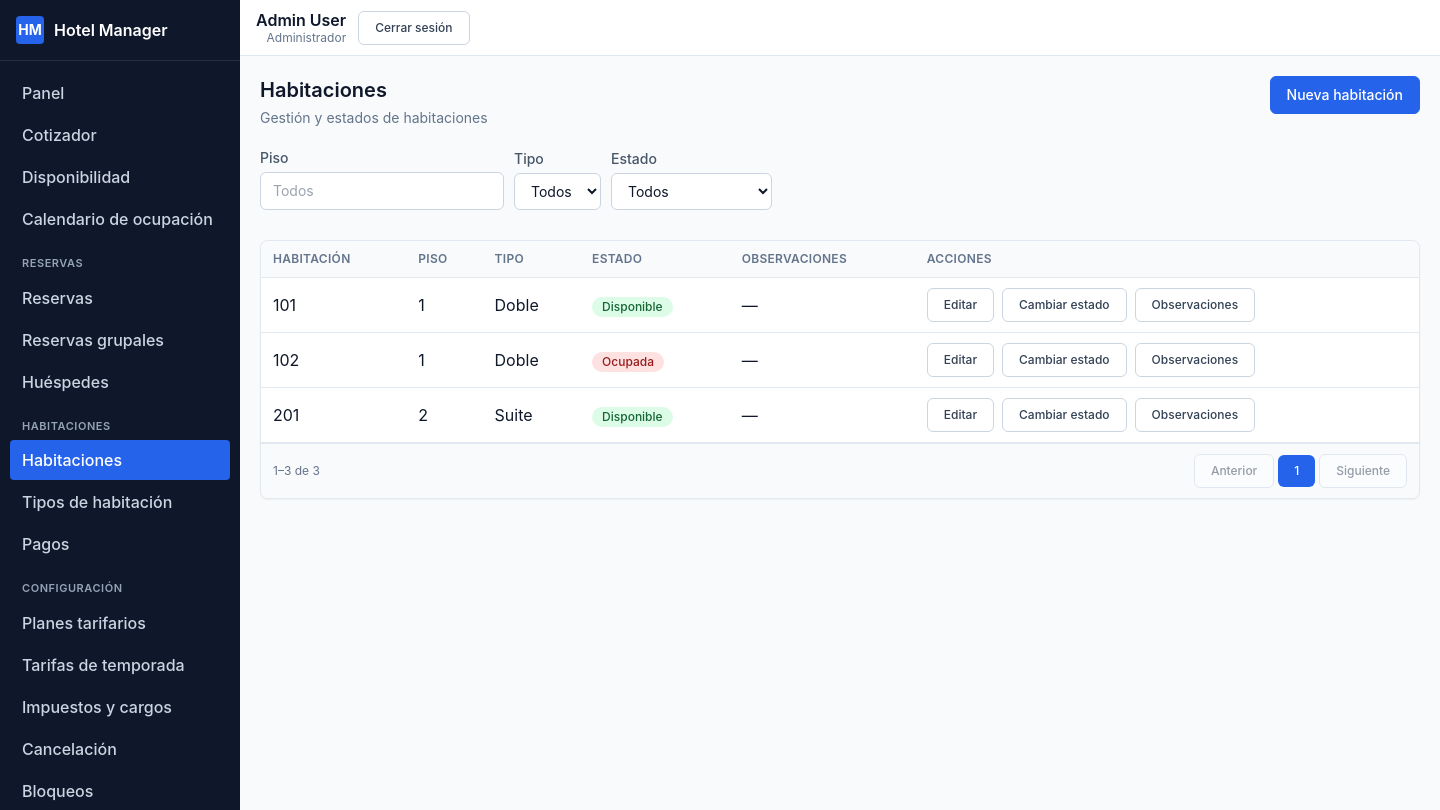
Test: RoomsPage › filtra habitaciones por tipo al seleccionar el dropdown
Check: the text "201" is shown, box [261,388,406,442]
Step 1. Select "Doble" in the dropdown labelled "Tipo" → (558, 192), box [514,173,601,210]
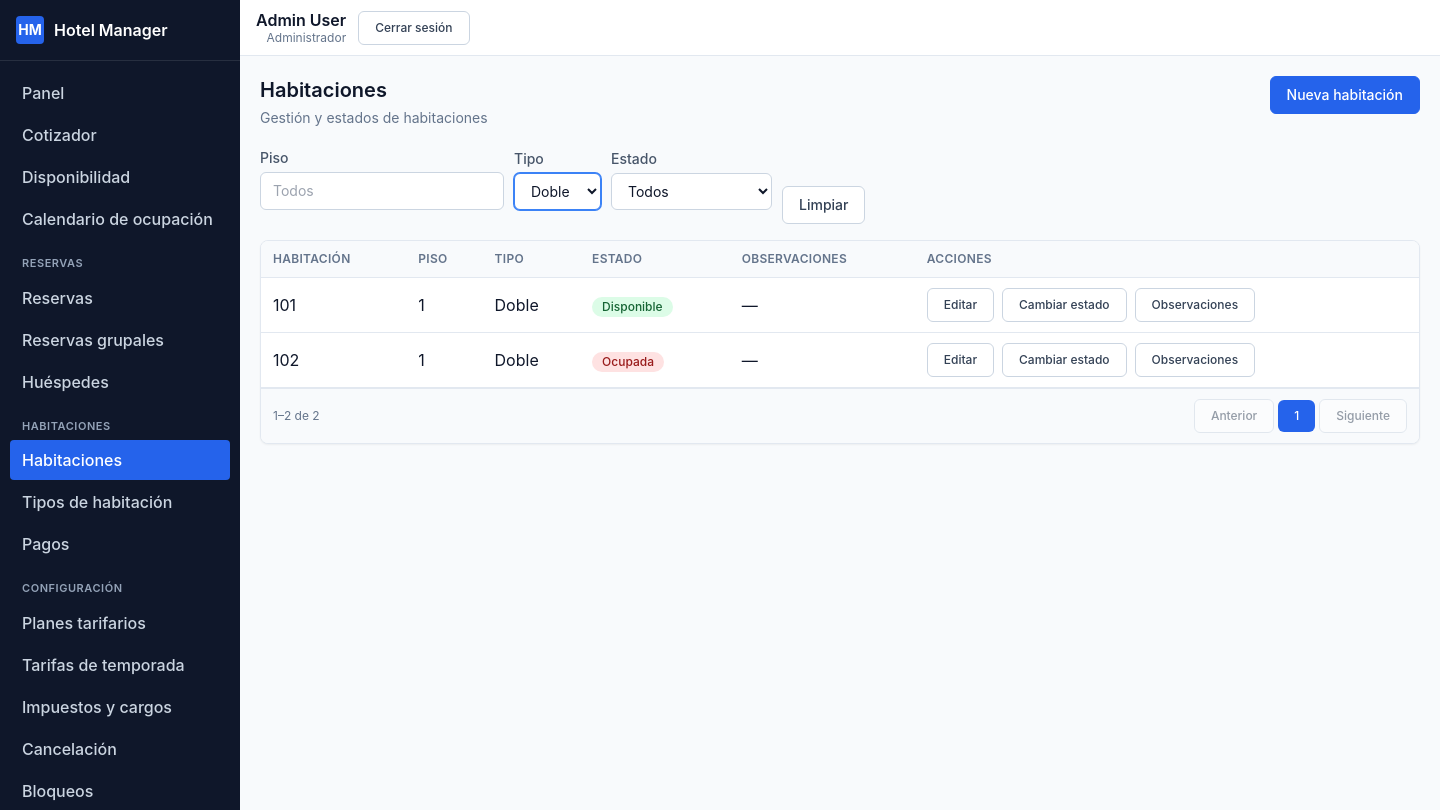
Check: the text "101" is shown, box [261,278,406,332]
Check: the text "201" is gone
